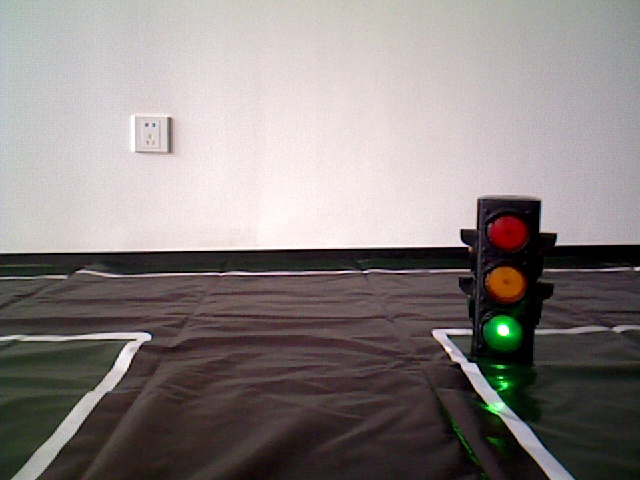green: (478, 205, 532, 355)
